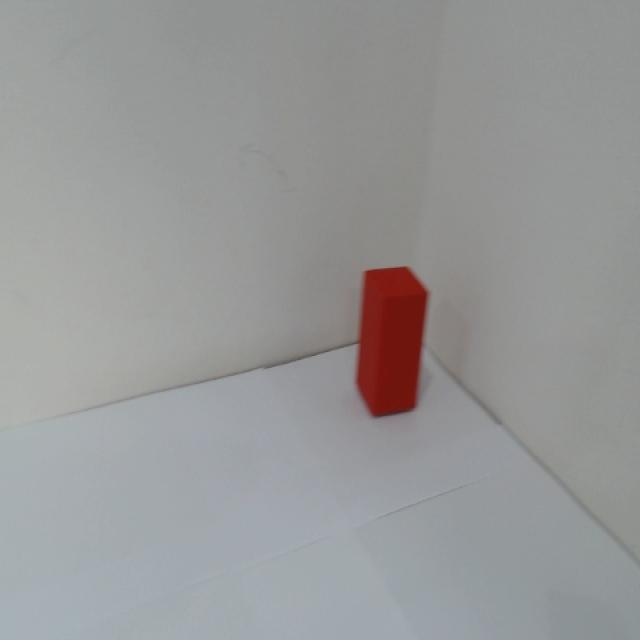cube: (352, 254, 438, 427)
